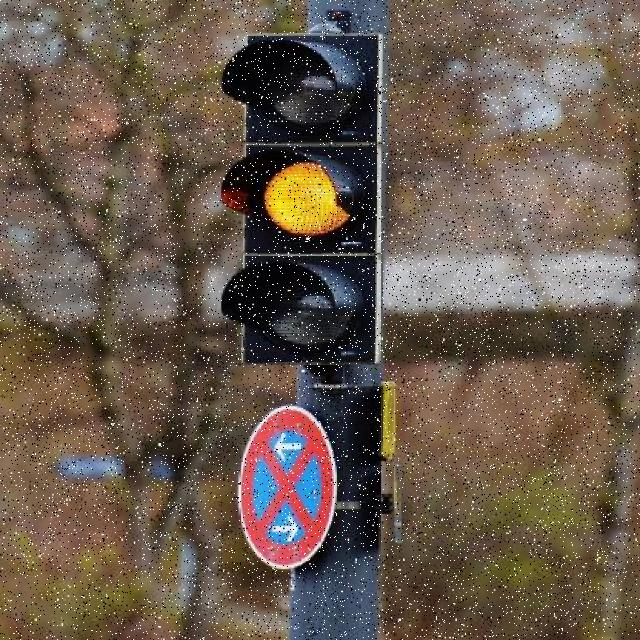yellow-light: (221, 21, 388, 372)
